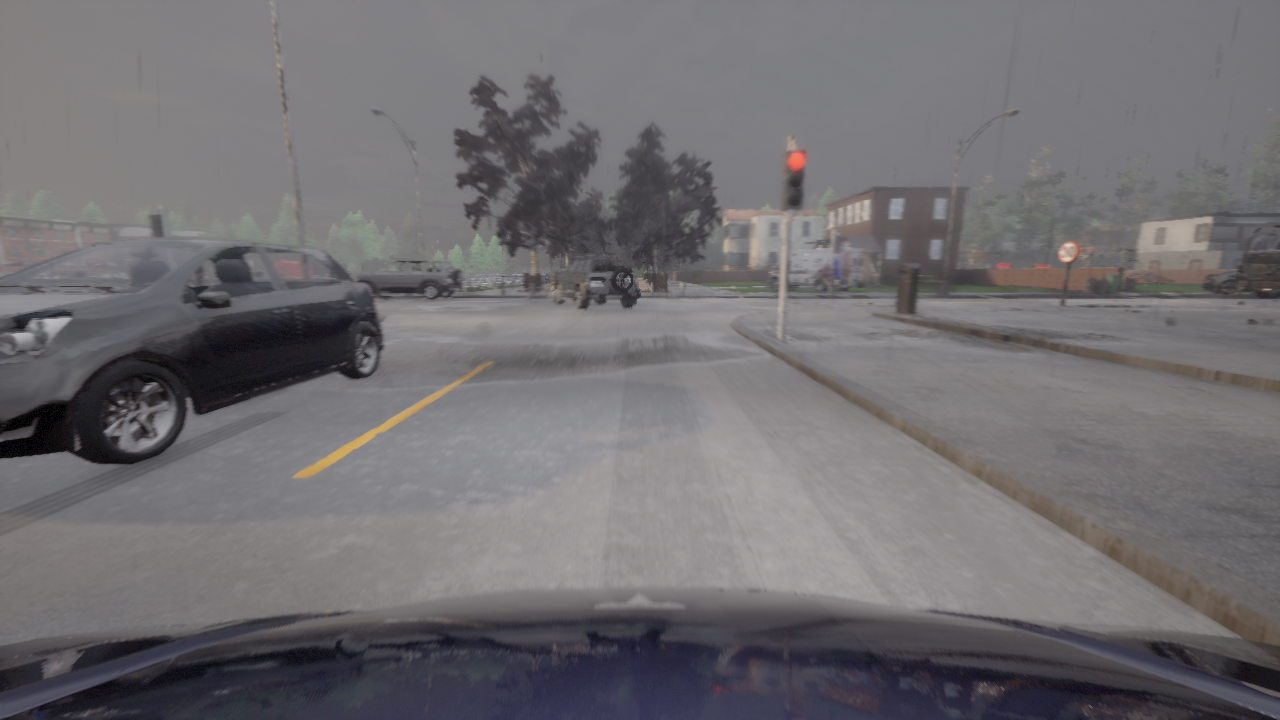cyclist: (0, 588, 1279, 719), (0, 237, 383, 465), (552, 254, 639, 309), (350, 258, 463, 300), (767, 248, 871, 292), (1233, 226, 1279, 298), (1203, 270, 1239, 293)
